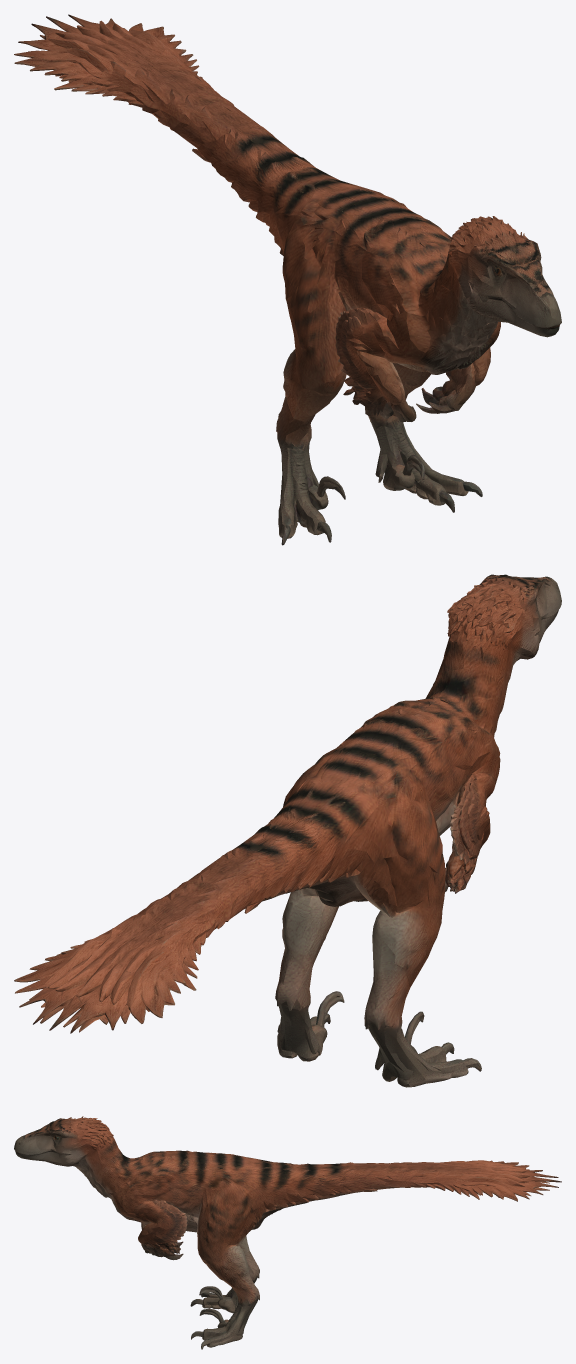
File: utahraptor_i2m_v2.glb
3 renders of one model, top to bottom at view 1: azimuth 30°, elevation 25°; view 2: azimuth 150°, elevation 25°; view 3: azimuth 270°, elevation 25°, orthographic. The views are drawn at different scales.
Parts seen in each view (by area): view 1: Mesh_0; view 2: Mesh_0; view 3: Mesh_0.
Part boxes in pixels (x1,y1,x2,y2): Mesh_0: (14,14,561,545); Mesh_0: (14,574,561,1087); Mesh_0: (14,1116,561,1349).
Size of the model in its own units: 0.4314 by 0.78 by 1.89.
Materials: 1 (1 with a texture image).
